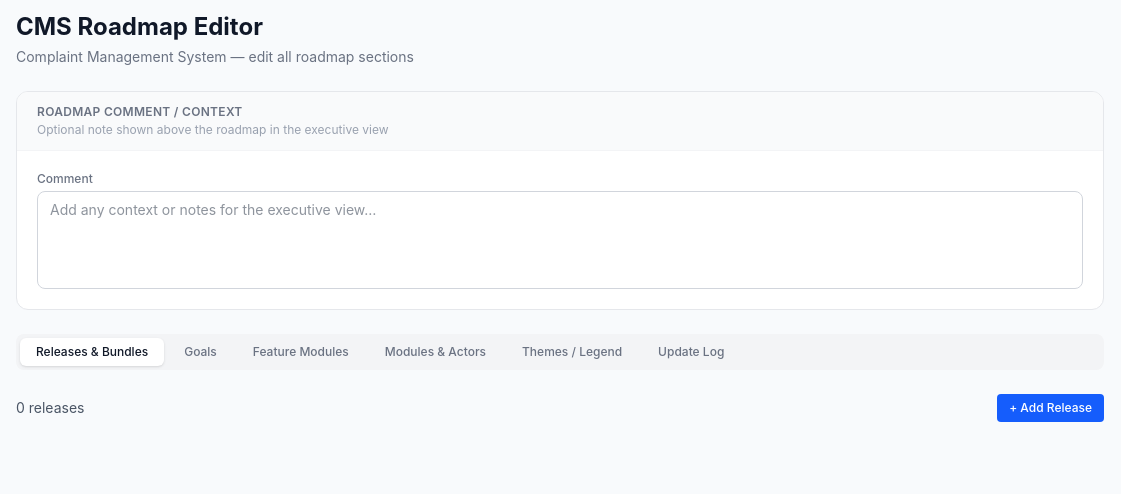
ComplaintsRoadmapEditor (via RoadmapEditor with cms slug) › T-50.03: clicking Goals tab shows Goals content
Click the button "Goals".
click(200, 352)  # box [168,338,233,366]
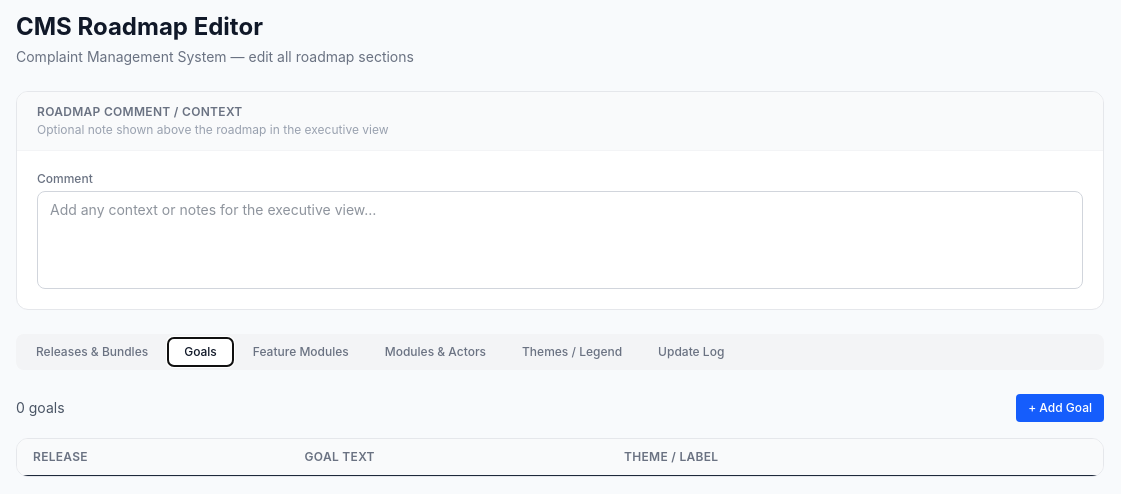
Expected: the button "+ Add Goal" is shown, [1016,394,1104,422]
